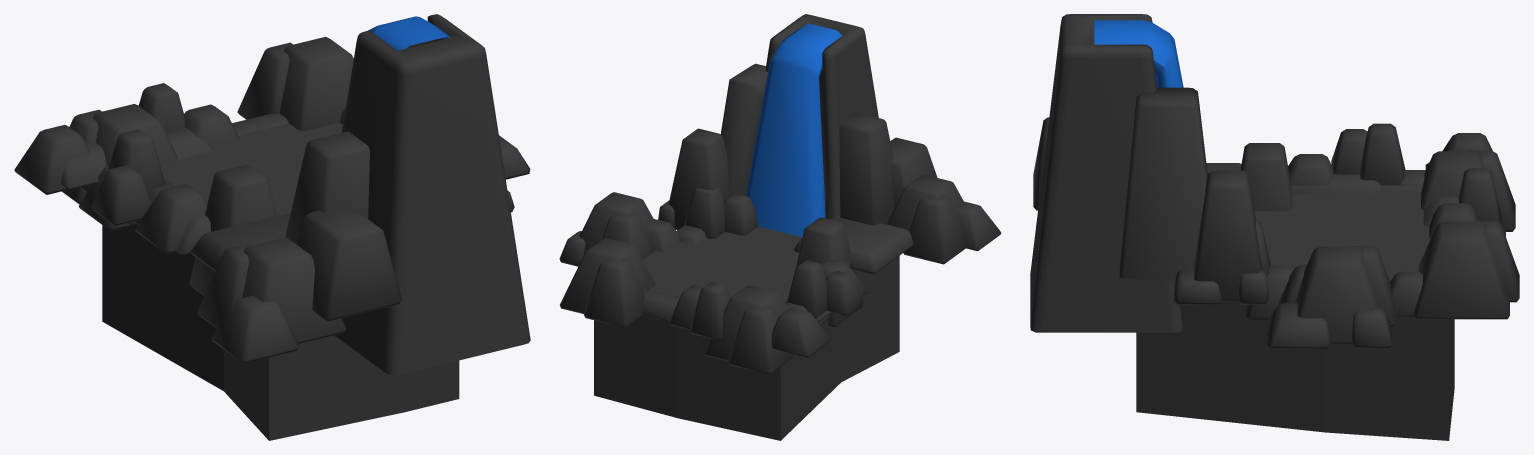
File: SM_MountainStream_01.fbx
The picture shows the model from 3 angles, left to right: view 1: azimuth 30°, elevation 25°; view 2: azimuth 150°, elevation 25°; view 3: azimuth 270°, elevation 25°; orthographic projection. The views are drawn at different scales.
Visible parts, largest first — view 1: SM_MountainStream_01; view 2: SM_MountainStream_01; view 3: SM_MountainStream_01.
Boxes of the visible parts, x1,y1,x2,y2 form: SM_MountainStream_01: (14,14,530,440); SM_MountainStream_01: (559,14,1001,440); SM_MountainStream_01: (1030,14,1519,440).
Size of what is drawn, in the model's own units: 287 by 258 by 318.
